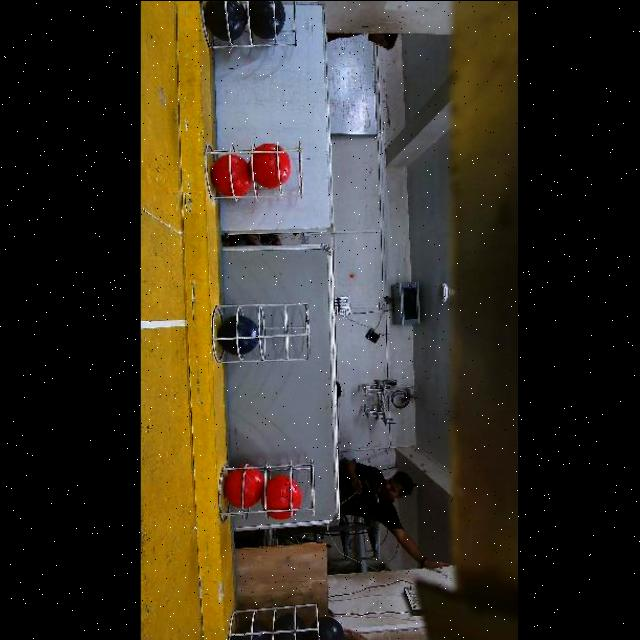P: (218, 314, 258, 356), (205, 0, 246, 40), (249, 0, 285, 38), (307, 614, 346, 640), (274, 613, 307, 640), (234, 619, 271, 640)
R: (211, 153, 251, 196), (253, 142, 291, 187), (223, 467, 263, 507), (264, 475, 301, 518)
S: (202, 298, 312, 362), (215, 454, 318, 522), (204, 137, 304, 201), (206, 0, 296, 48), (228, 602, 324, 640)
